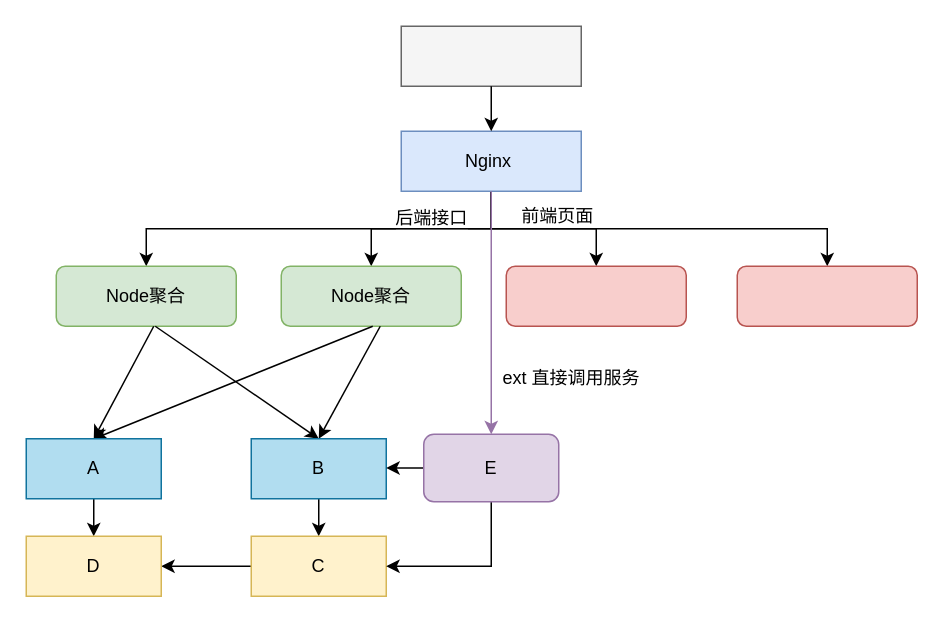
Some shapes in this 944 by 623 pixel diagram are drawn without their labels. Each missing label, with the box of its shape:
Client: (400, 25, 581, 86)
webcontent1: (505, 265, 686, 326)
webcontent2: (736, 265, 917, 326)
